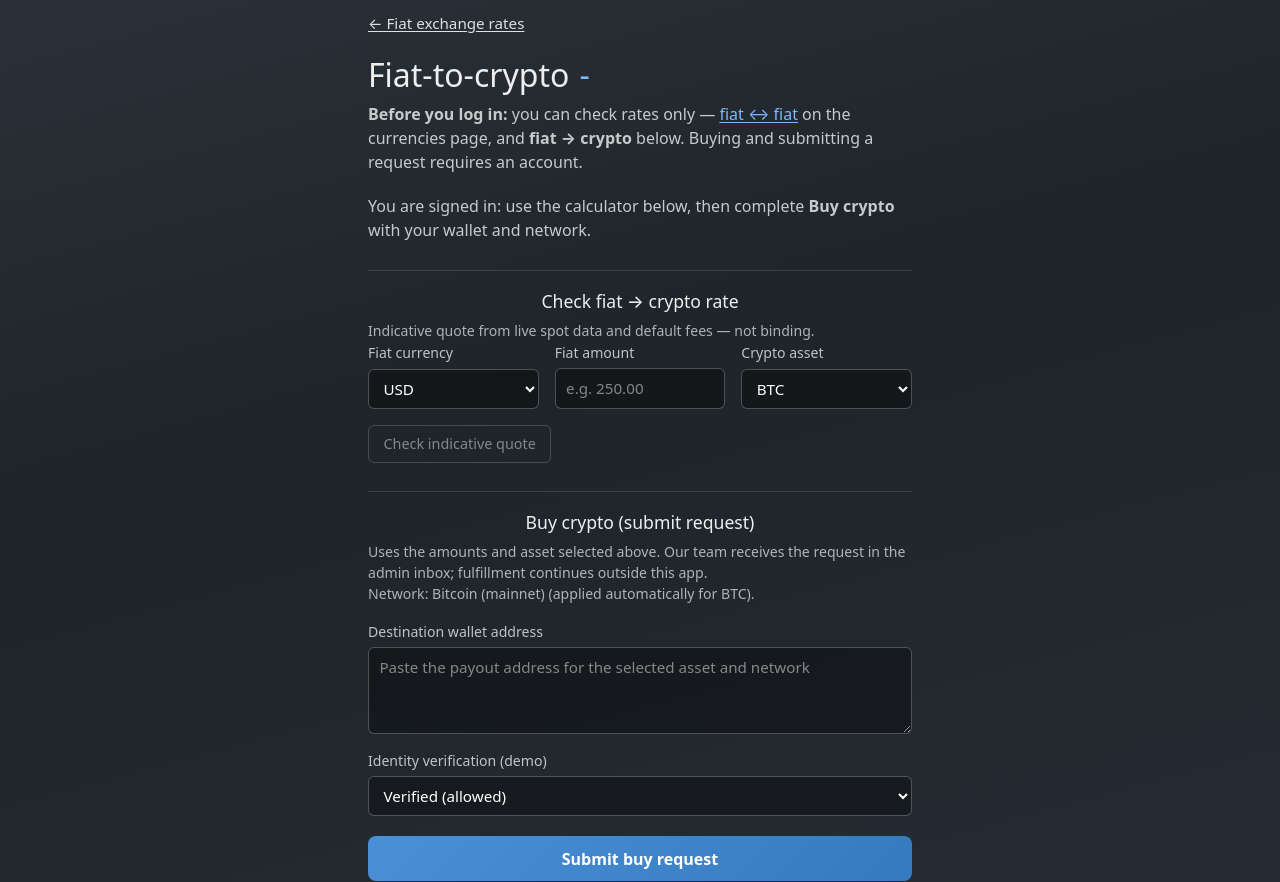
Test: FiatToCryptoRequestForm (FCX-40) › submits to the API and shows the request reference on success (submitted order)
Type "100.00" into the field named "Fiat amount for quote" at (640, 389), box x1=555 y1=368 x2=725 y2=409
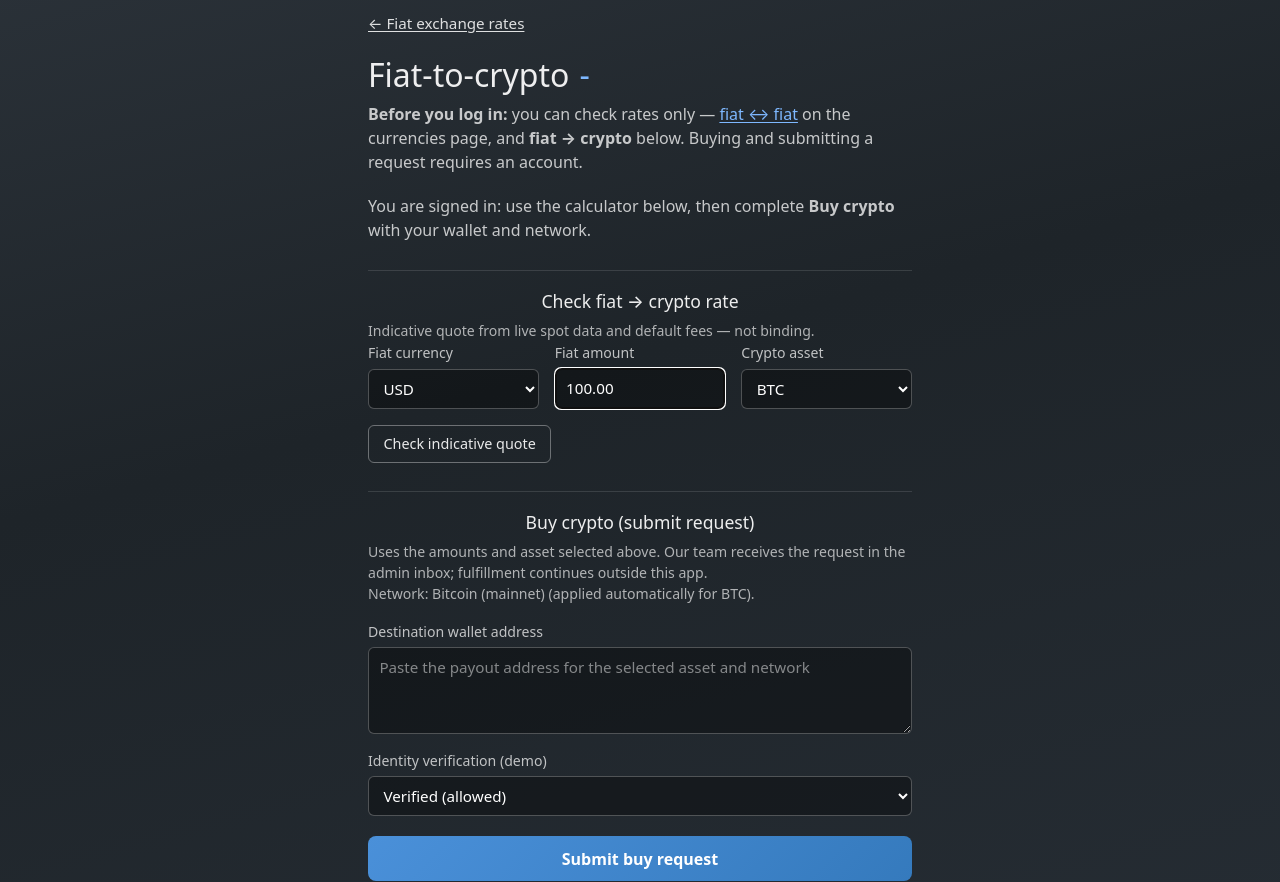
Type "bc1qxy2kgdygjrsqtzq2n0yrf2493p83kkfjhx0wlh" into the text box labelled "Destination wallet address" at (640, 690), box x1=368 y1=647 x2=912 y2=734
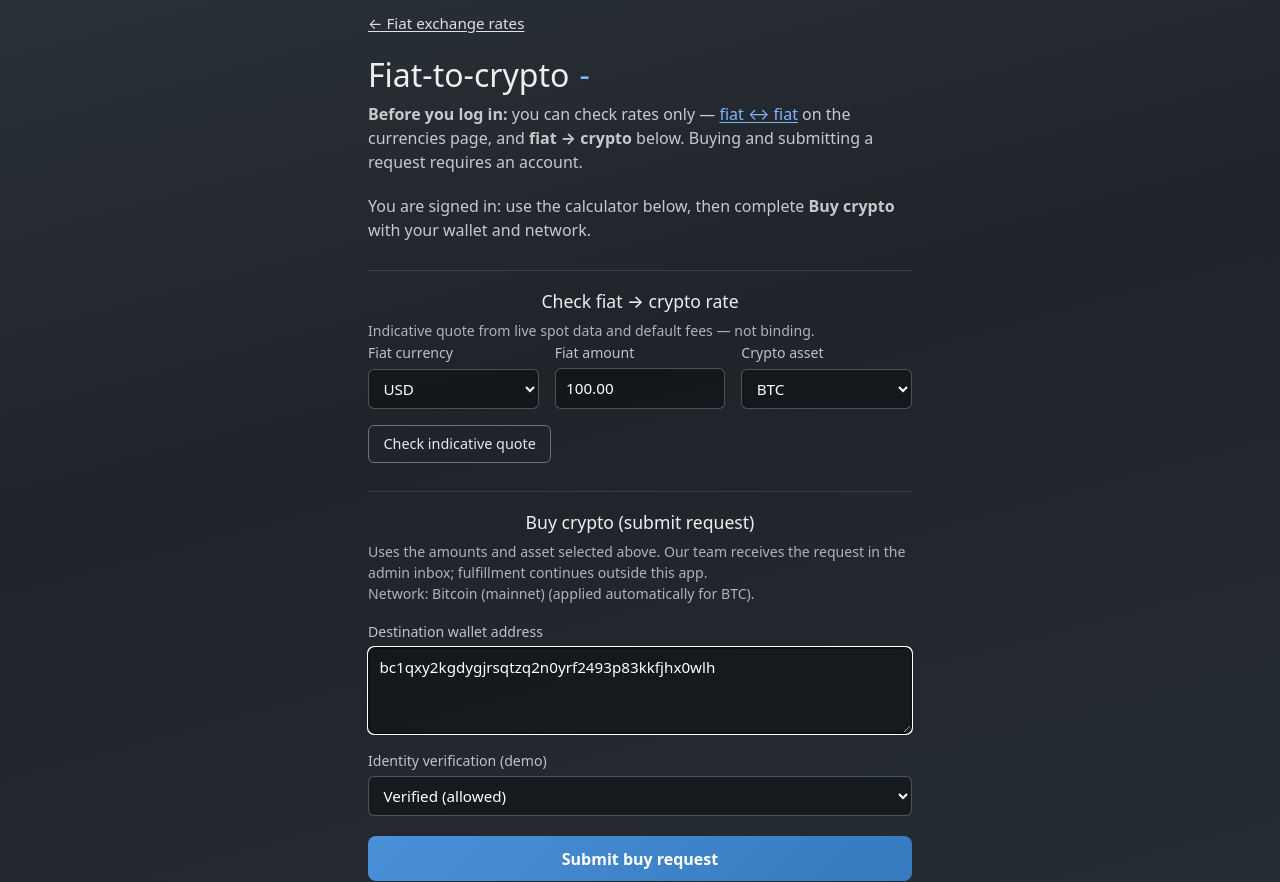
Click the button "Submit buy request" at (640, 859), box x1=368 y1=836 x2=912 y2=881
(page scrolled)
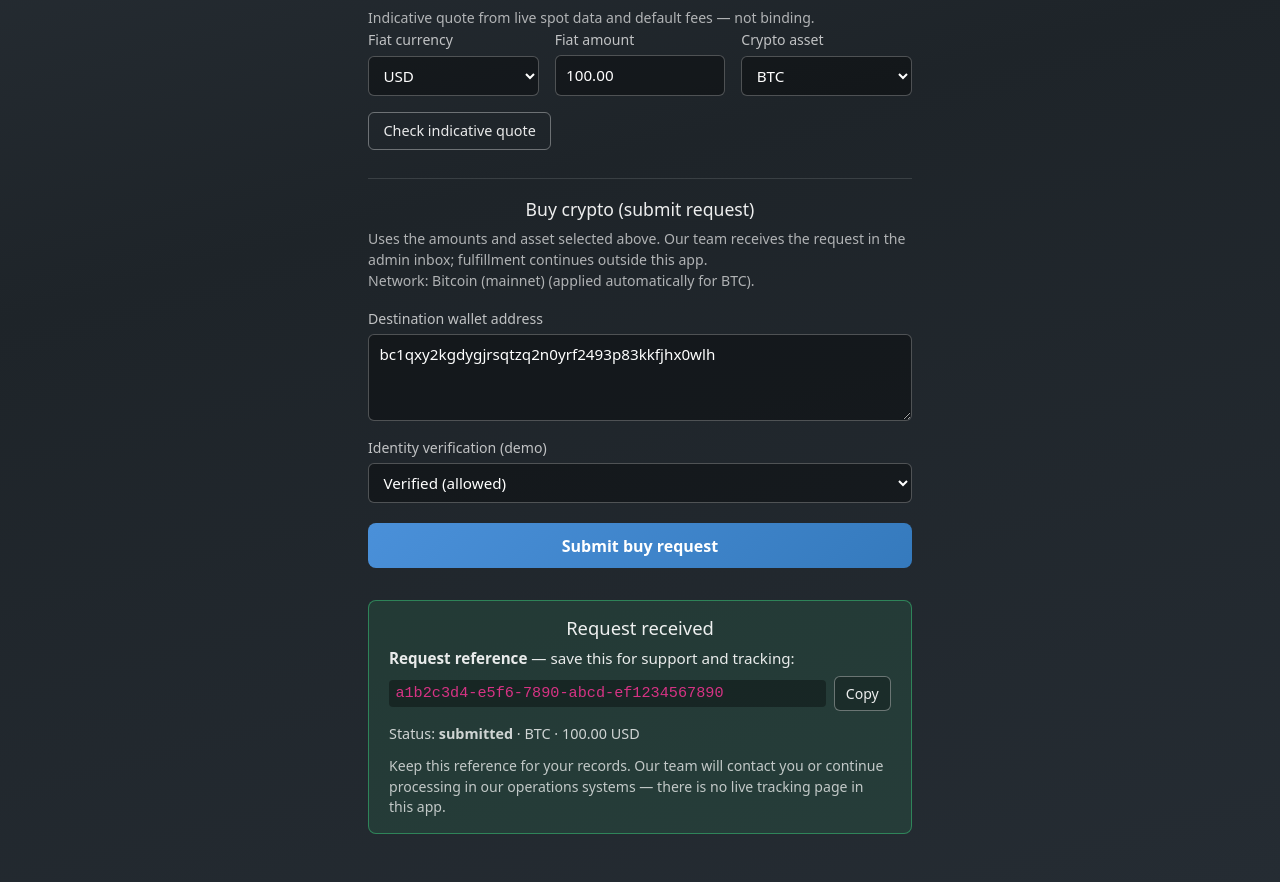
Result: the text with test id "order-reference" reads "a1b2c3d4-e5f6-7890-abcd-ef1234567890" at x1=395 y1=684 x2=724 y2=702
Result: the element named "Order confirmation" shows "submitted" at x1=439 y1=724 x2=513 y2=743
